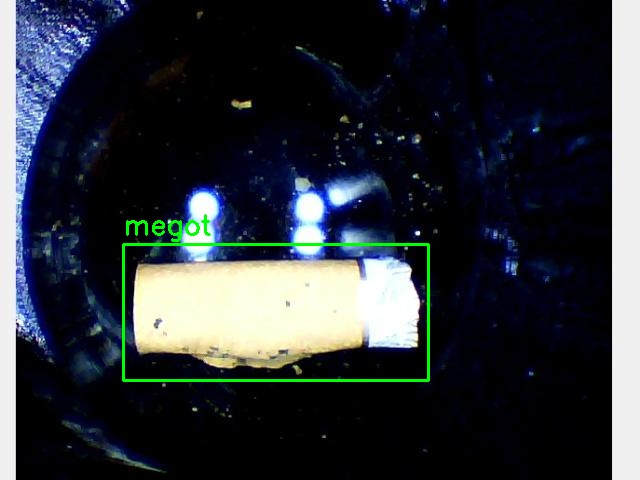megot: (123, 244, 428, 380)
